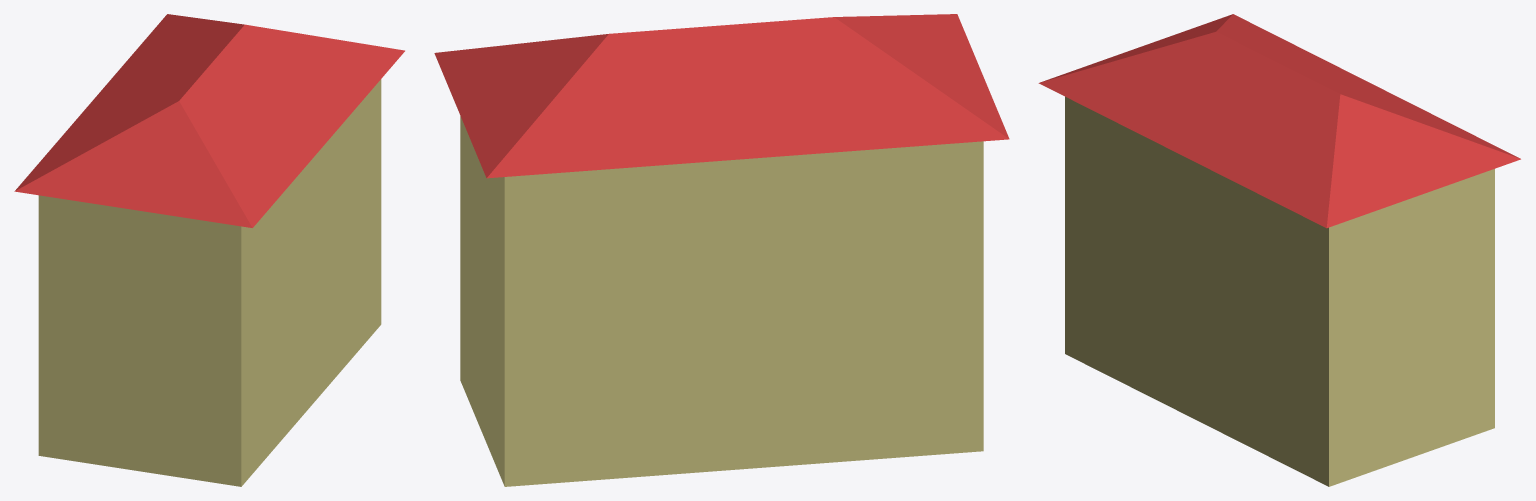
3 views of the same model, side by side, from view 1: azimuth 30°, elevation 25°; view 2: azimuth 150°, elevation 25°; view 3: azimuth 270°, elevation 25° (orthographic). The views are drawn at different scales.
Parts seen in each view (by area): view 1: group_5, group_3, group_4; view 2: group_5, group_3, group_4; view 3: group_5, group_3, group_4.
Boxes of the visible parts, left/top/right/bottom form: group_5: left=38, top=79, right=381, bottom=486; group_3: left=15, top=14, right=380, bottom=227; group_4: left=14, top=31, right=404, bottom=227; group_5: left=460, top=116, right=983, bottom=486; group_3: left=435, top=14, right=1009, bottom=178; group_4: left=434, top=14, right=1008, bottom=178; group_5: left=1065, top=96, right=1494, bottom=486; group_3: left=1041, top=16, right=1520, bottom=227; group_4: left=1038, top=14, right=1520, bottom=228.
Bounding box in the file's own units: 20.1 × 19.15 × 14.38.
